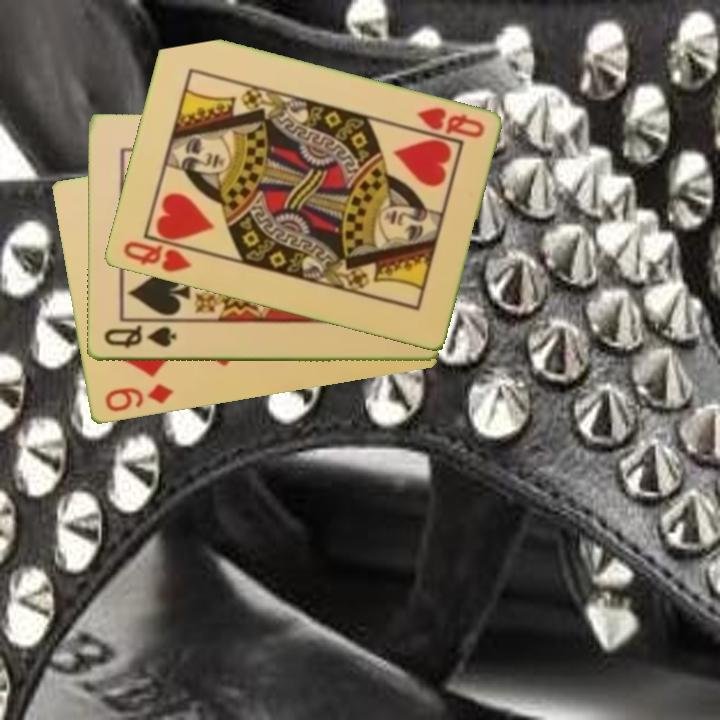9d: (101, 381, 176, 416)
Qh: (119, 238, 194, 276), (412, 104, 487, 141)
Qs: (100, 323, 179, 351)
